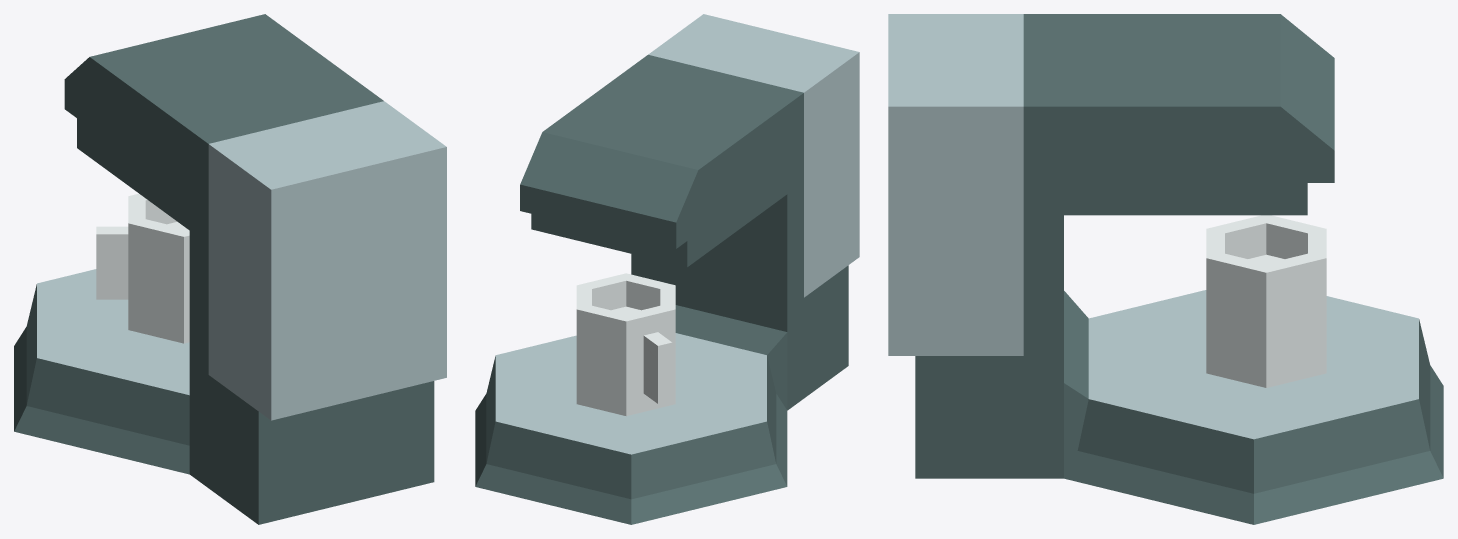
Rendered from kitchenCoffeeMachine.dae.
The picture shows the model from 3 angles, left to right: view 1: azimuth 30°, elevation 25°; view 2: azimuth 150°, elevation 25°; view 3: azimuth 270°, elevation 25°; orthographic projection. The views are drawn at different scales.
Parts seen in each view (by area): view 1: kitchenCoffeeMachine, mug; view 2: kitchenCoffeeMachine, mug; view 3: kitchenCoffeeMachine, mug.
Part boxes in pixels (box(x1,y1,x2,y2)): kitchenCoffeeMachine: box(14, 14, 446, 524); mug: box(96, 193, 189, 343); kitchenCoffeeMachine: box(475, 14, 859, 524); mug: box(576, 273, 675, 416); kitchenCoffeeMachine: box(888, 14, 1443, 524); mug: box(1206, 215, 1326, 387).
Bounding box in the file's own units: 0.1895 × 0.1775 × 0.2402.
